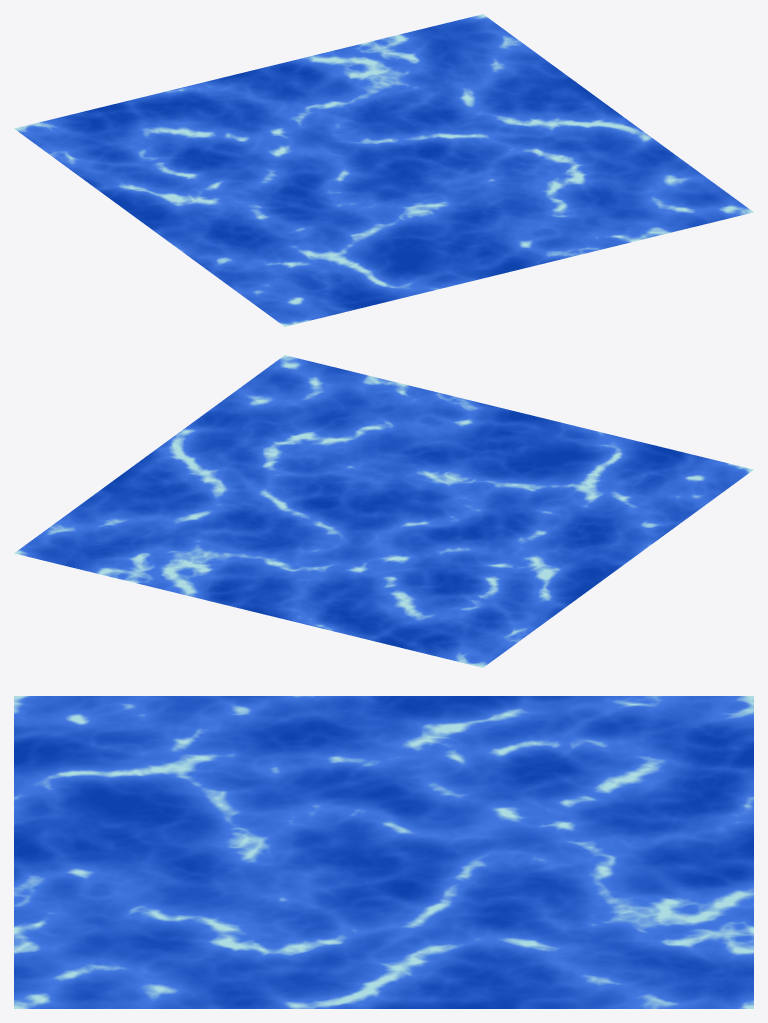
Rendered from ocean.obj.
3 views of the same model, one above another, from view 1: azimuth 30°, elevation 25°; view 2: azimuth 150°, elevation 25°; view 3: azimuth 270°, elevation 25° (orthographic). The views are drawn at different scales.
Visible parts, largest first — view 1: Ocean; view 2: Ocean; view 3: Ocean.
Boxes of the visible parts, x1=… form: Ocean: x1=14, y1=14, x2=753, y2=326; Ocean: x1=14, y1=355, x2=753, y2=667; Ocean: x1=14, y1=696, x2=753, y2=1008.
Bounding box in the file's own units: 2 × 0 × 2.
Materials: 1 (1 with a texture image).
